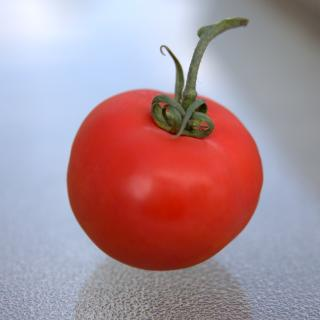tomato: (68, 68, 269, 274)
